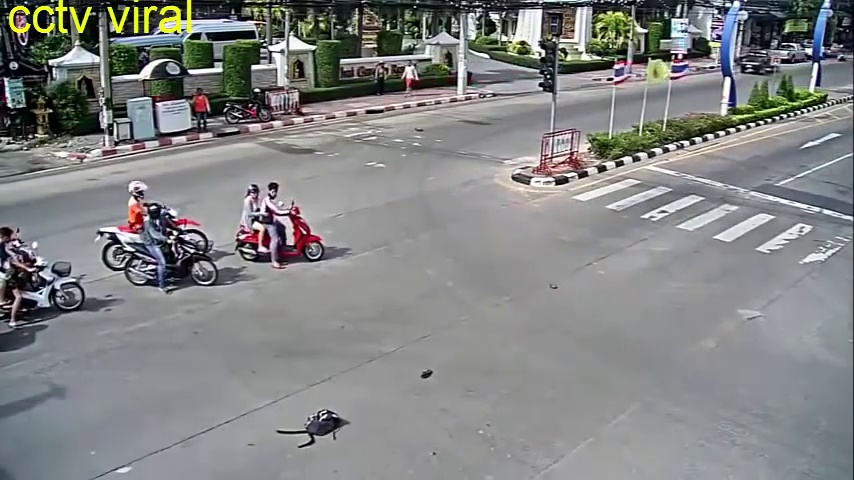motorbike: (98, 179, 212, 275), (125, 207, 221, 291), (1, 234, 93, 319), (237, 184, 323, 262)
